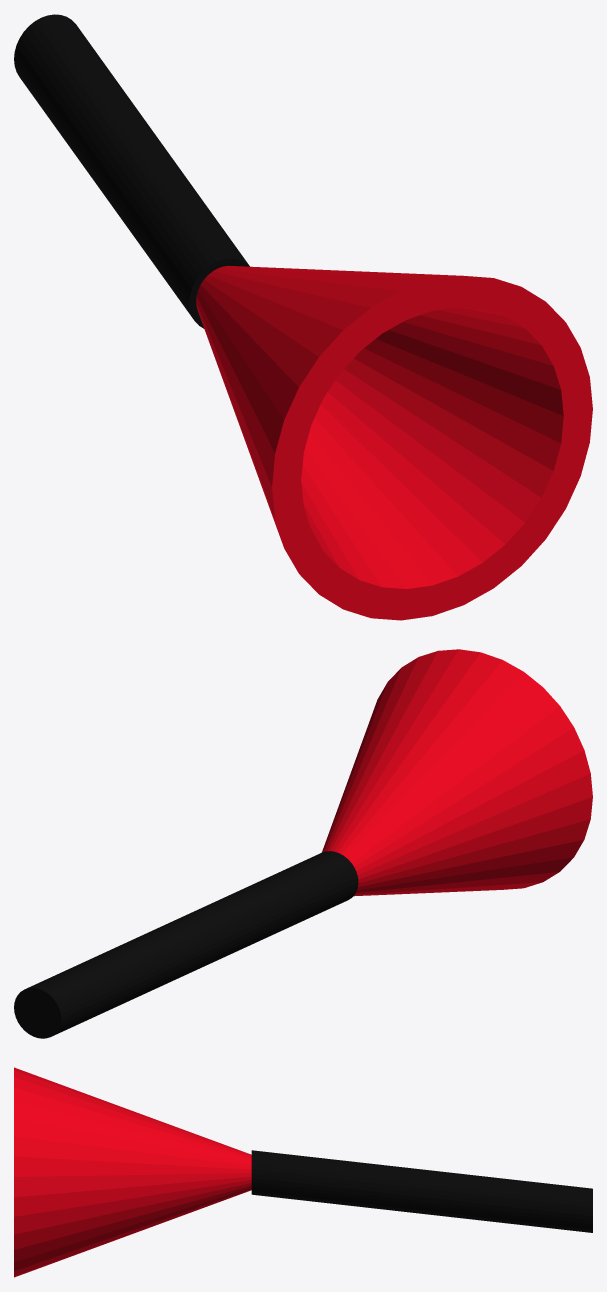
File: vac.fbx
3 renders of one model, top to bottom at view 1: azimuth 30°, elevation 25°; view 2: azimuth 150°, elevation 25°; view 3: azimuth 270°, elevation 25°, orthographic. The views are drawn at different scales.
Visible parts, largest first — view 1: Opening, Handle; view 2: Opening, Handle; view 3: Opening, Handle.
Boxes of the visible parts, bbox=[...] form: Opening: bbox=[196, 265, 592, 620]; Handle: bbox=[14, 14, 249, 328]; Opening: bbox=[322, 649, 592, 896]; Handle: bbox=[14, 851, 358, 1038]; Opening: bbox=[14, 1067, 251, 1277]; Handle: bbox=[251, 1150, 592, 1232].
Size of the model in its own units: 147 by 147 by 405.
